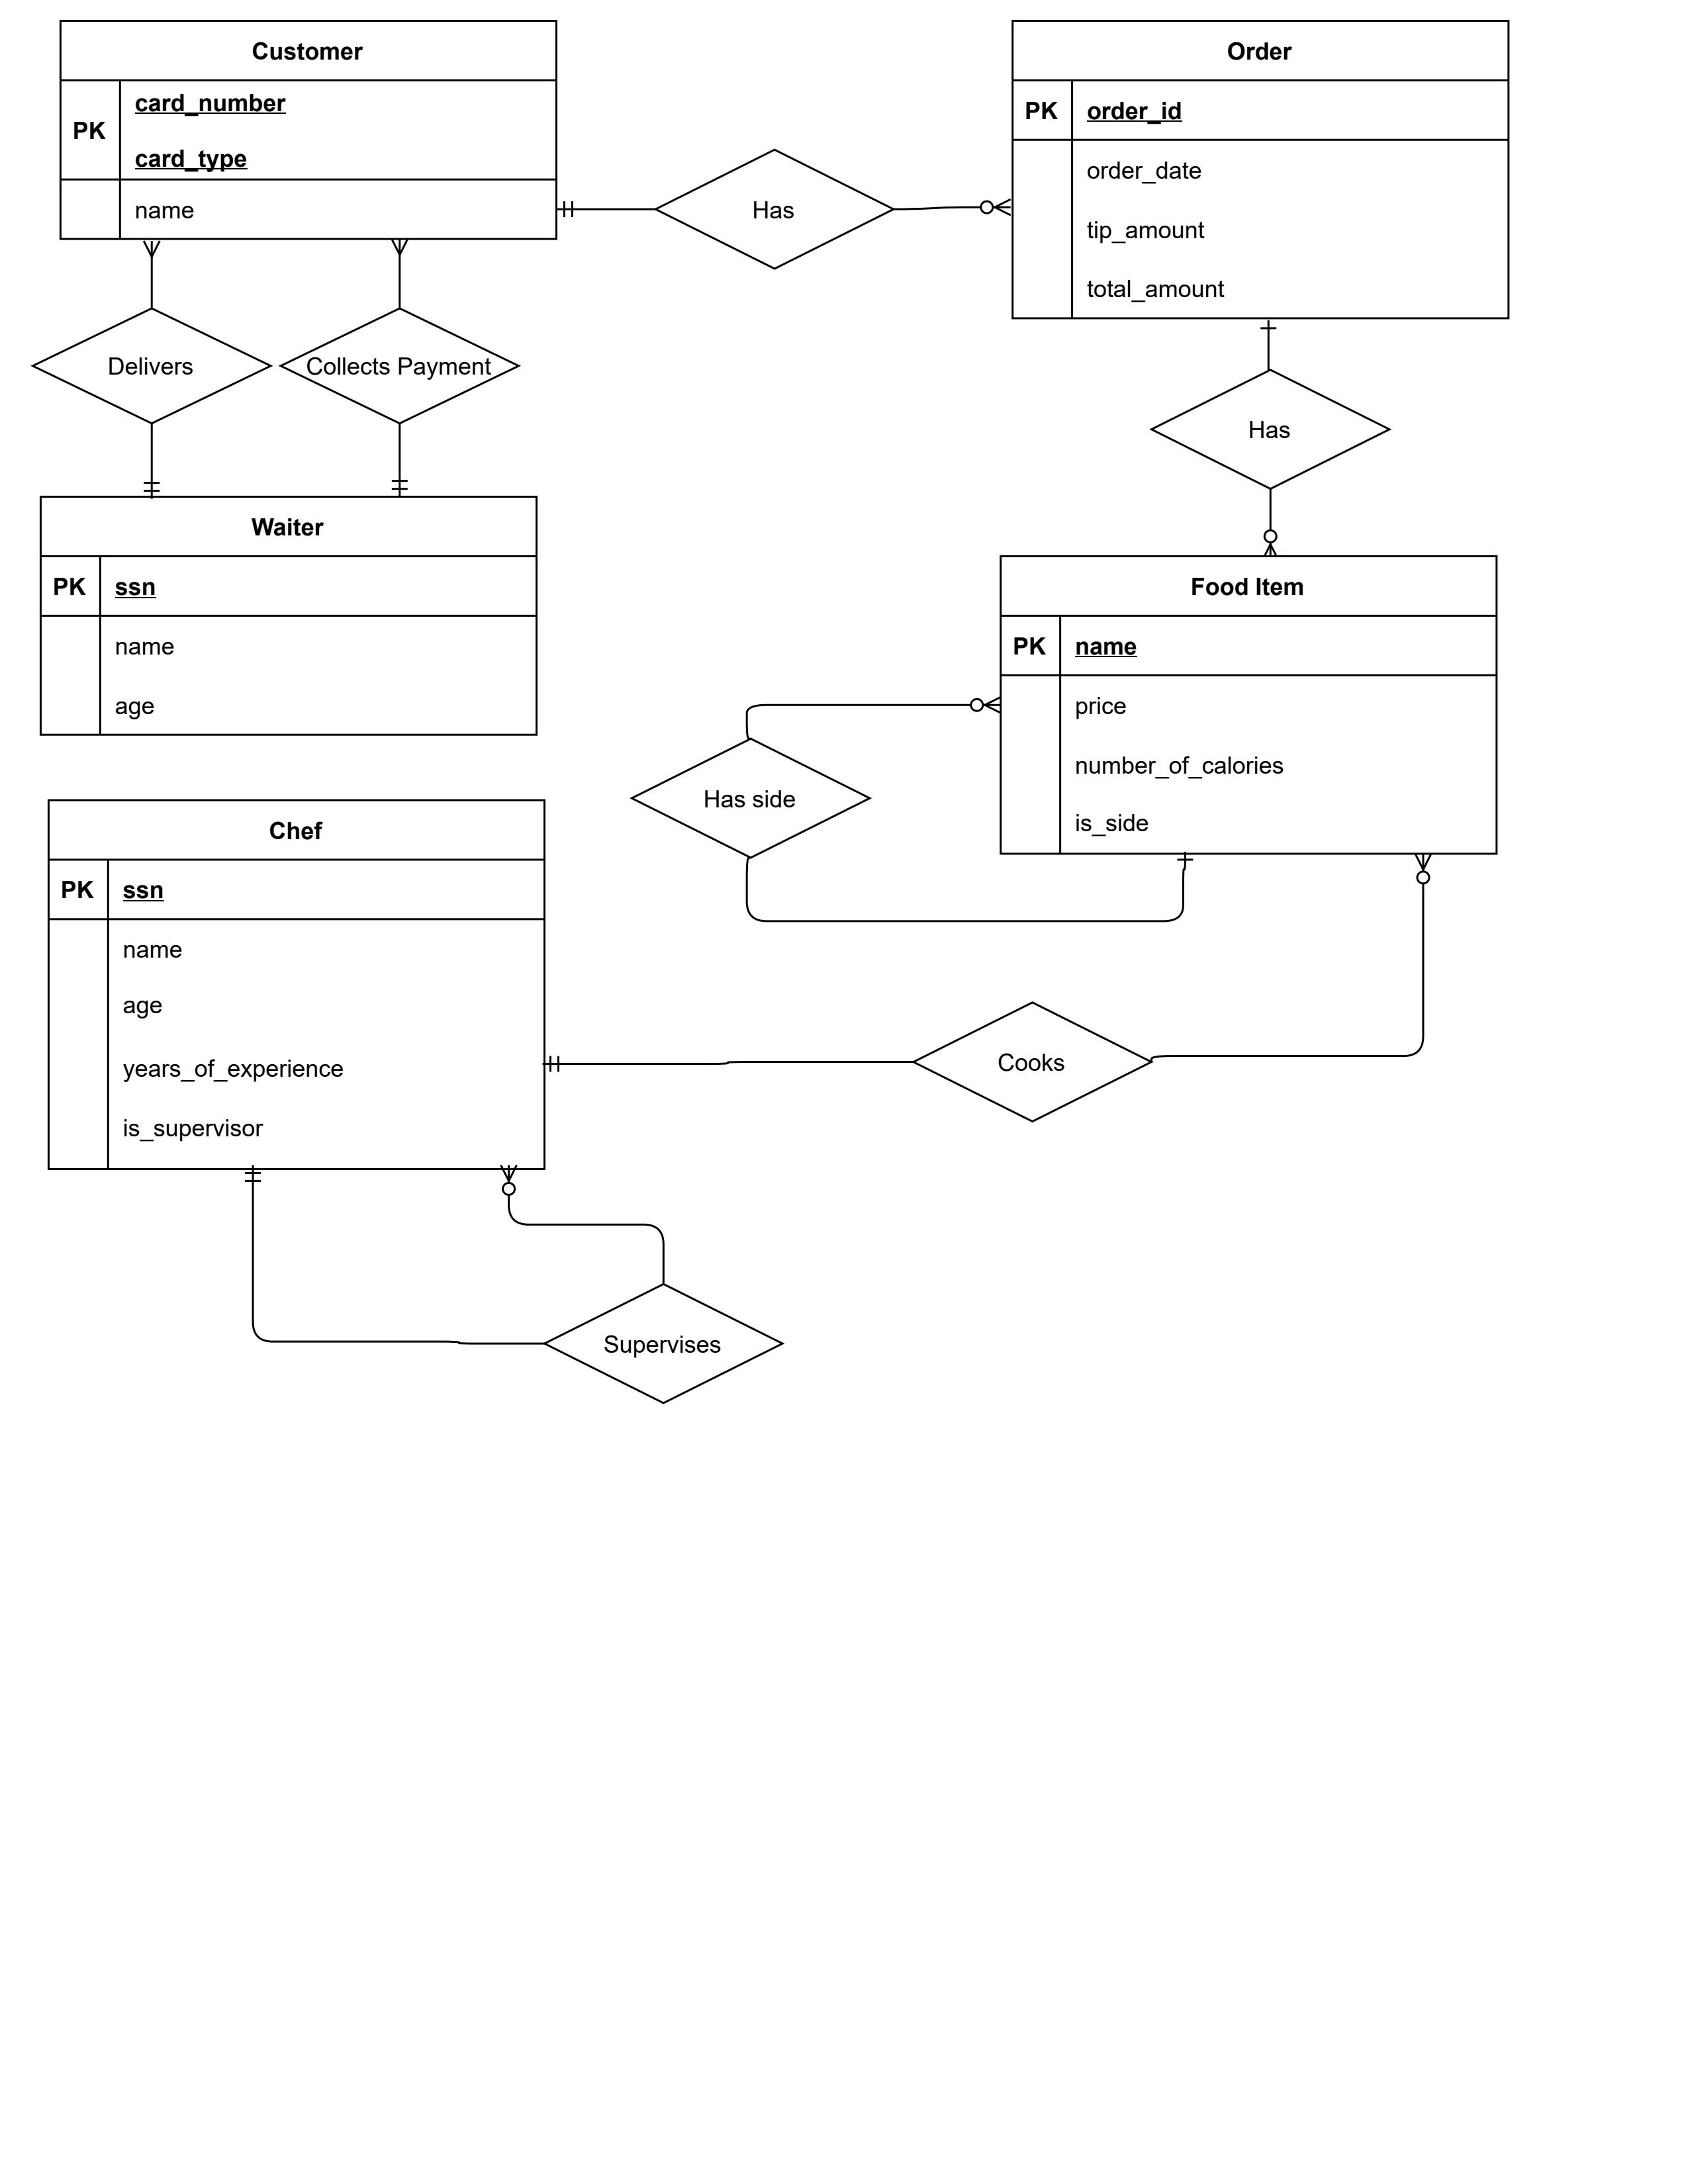Entity: (48, 798, 546, 1170), (1011, 18, 1511, 321), (998, 555, 1500, 856), (39, 495, 539, 737), (59, 19, 557, 241)
Relationship: (911, 1000, 1154, 1122), (1149, 369, 1392, 491), (544, 1283, 785, 1406), (629, 737, 872, 858), (280, 307, 520, 425), (656, 149, 894, 268), (30, 307, 271, 422)
